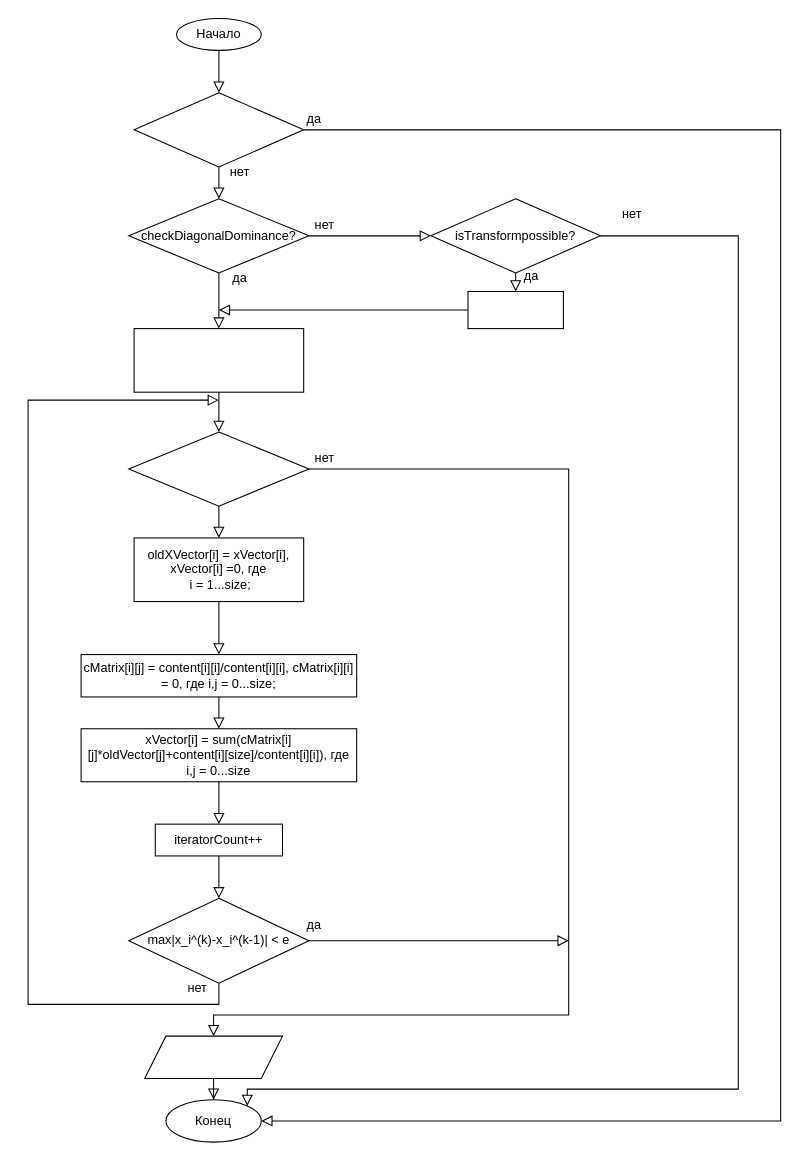
Image size: 810x1161. Some labels were removed from this diagram. The shapes that lost their labels are listed below. From the top down, each one's box as (x1, y1, x2, y2) in pixels, then its label:
(133, 92, 304, 167): determinant = 0
(467, 290, 563, 329): transforming...
(133, 328, 304, 392): xVector[i] = content[i][size]/content[i][i], i = 0...size; iteratorCount = 0
(128, 431, 309, 506): true
(144, 1035, 282, 1079): Вывод результата
